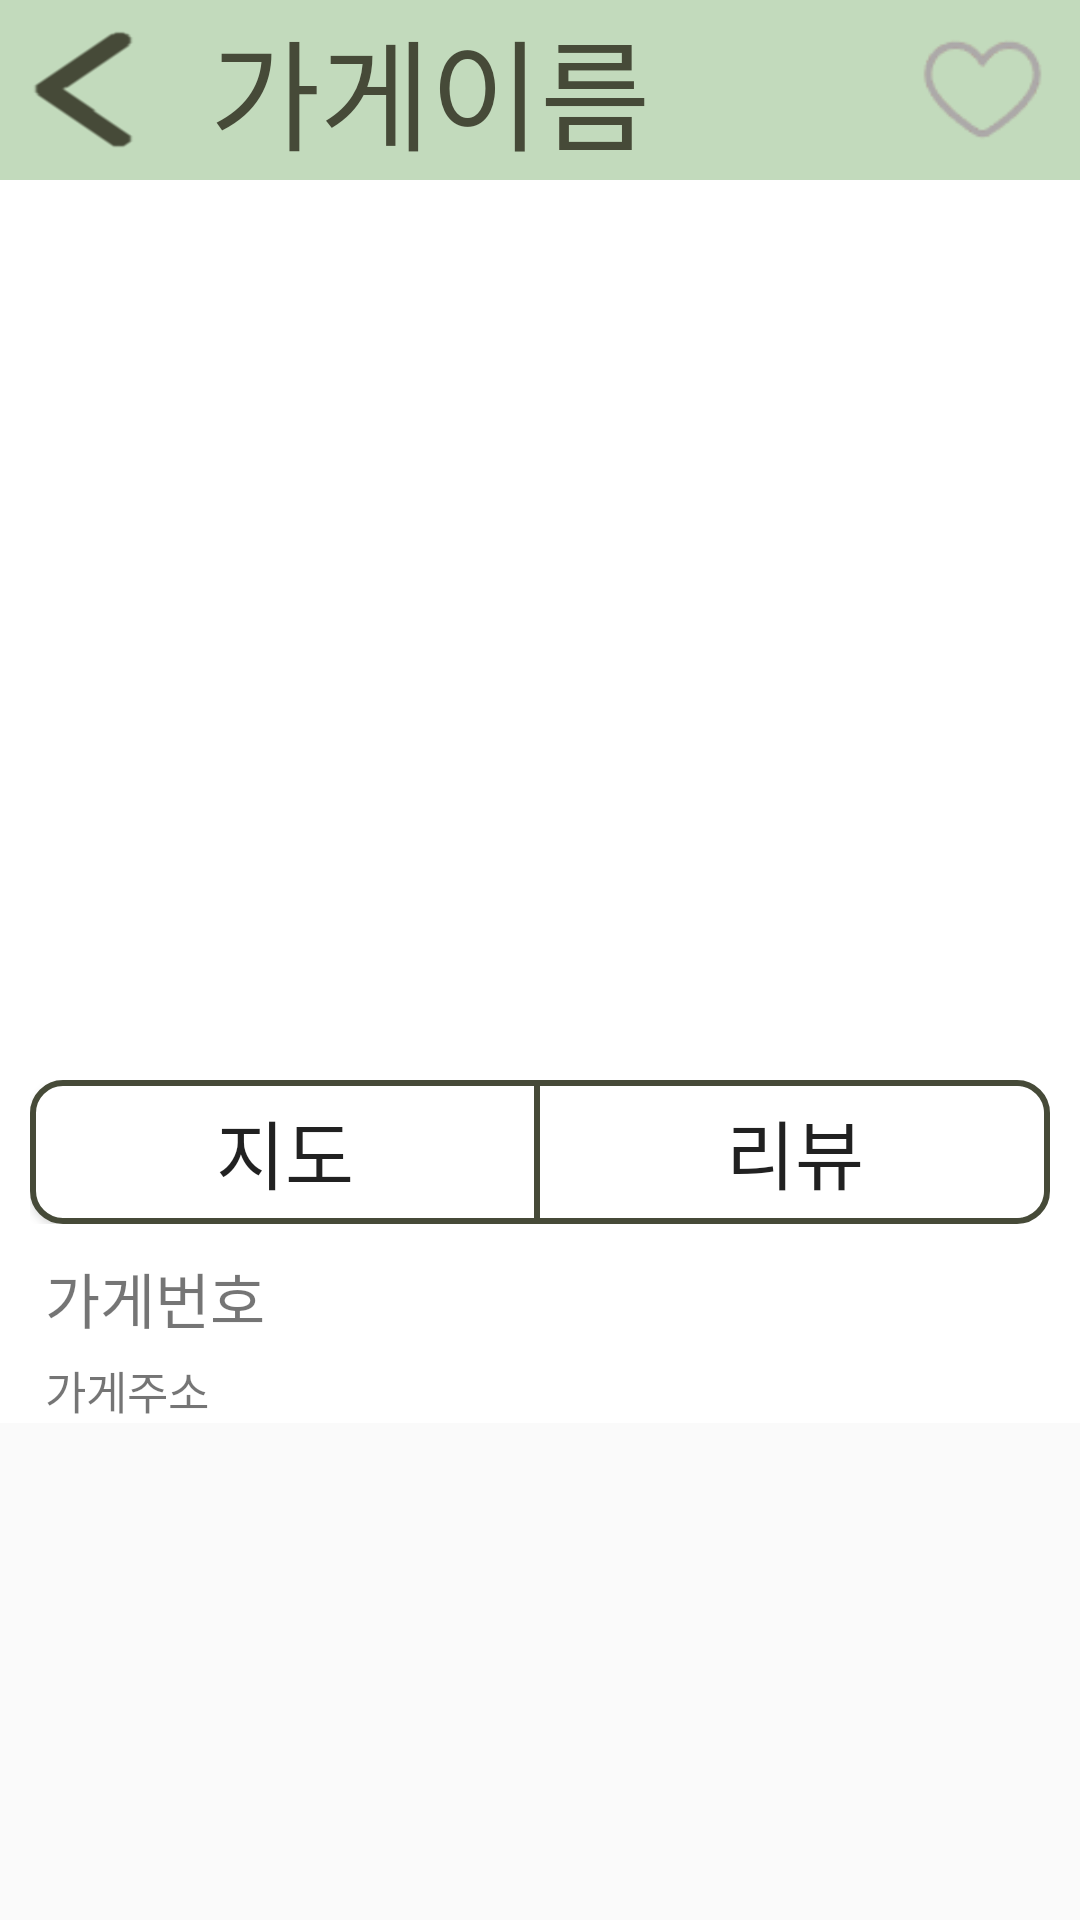

Where to tap for icons on this 1080 x 1920 app screen, as point (x, y):
toleft: point (83, 89)
